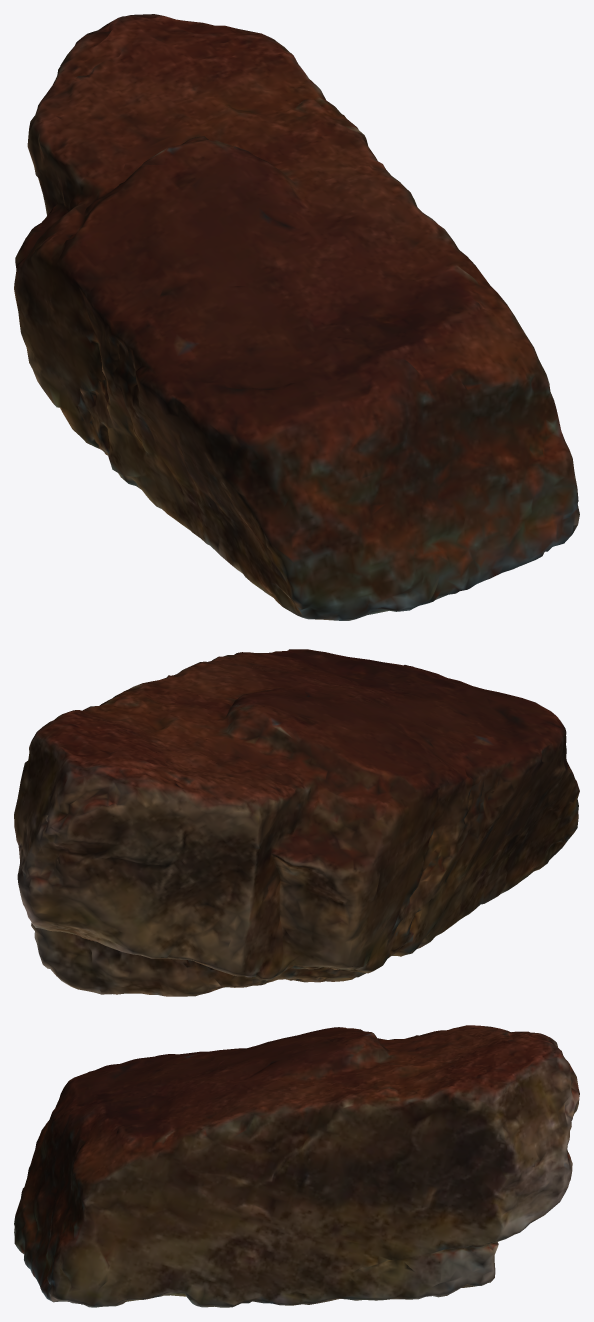
The model's file is rock_07.glb.
The picture shows the model from 3 angles, top to bottom: view 1: azimuth 30°, elevation 25°; view 2: azimuth 150°, elevation 25°; view 3: azimuth 270°, elevation 25°; orthographic projection. The views are drawn at different scales.
Parts seen in each view (by area): view 1: rock_07; view 2: rock_07; view 3: rock_07.
Part boxes in pixels (x1,y1,x2,y2): rock_07: [14, 14, 579, 620]; rock_07: [14, 649, 579, 996]; rock_07: [14, 1025, 579, 1307].
Bounding box in the file's own units: 0.1689 × 0.1437 × 0.3203.
Materials: 1 (1 with a texture image).
